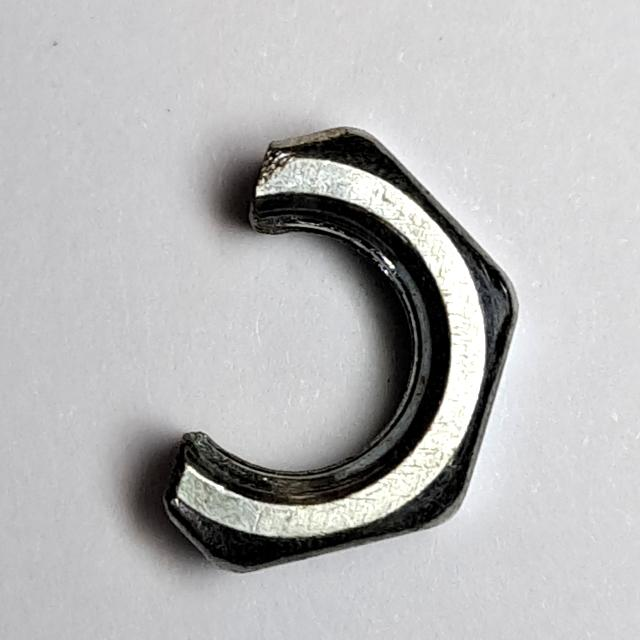Fracture: (151, 106, 532, 587)
